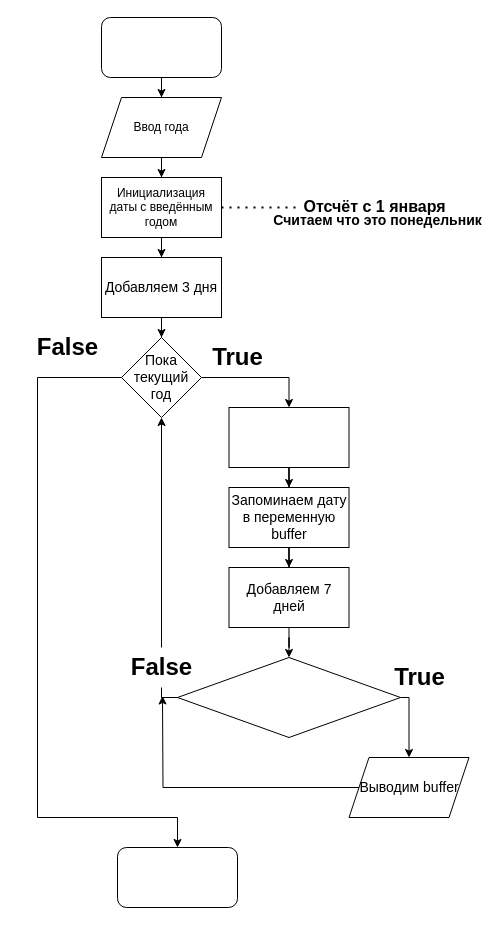
The diagram is 499 pixels wide and 925 high, and some of its shapes have lost their labels. The centre of each missing label's shape, as x and y in pixels:
Если текущий месяц не совпадает с А: [288,697]
Запоминаем месяц в переменную A: [288,437]
Конец: [177,877]
Начало: [161,47]
